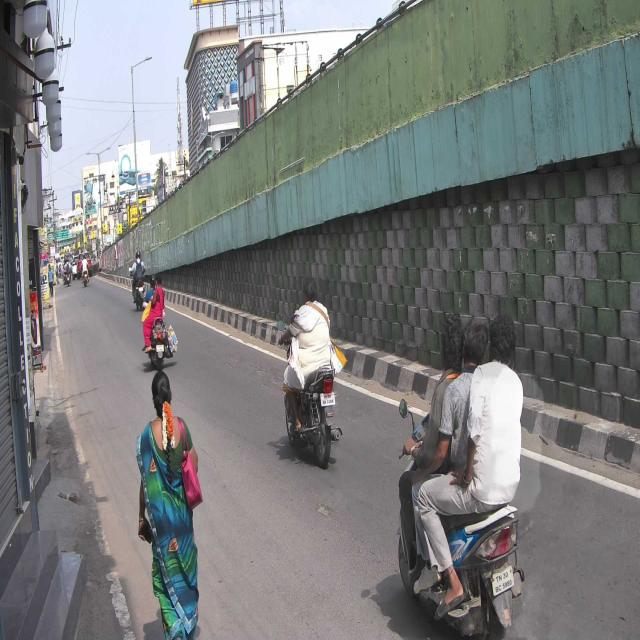single_rider: (277, 275, 343, 467)
triple_rider: (396, 308, 526, 640)
